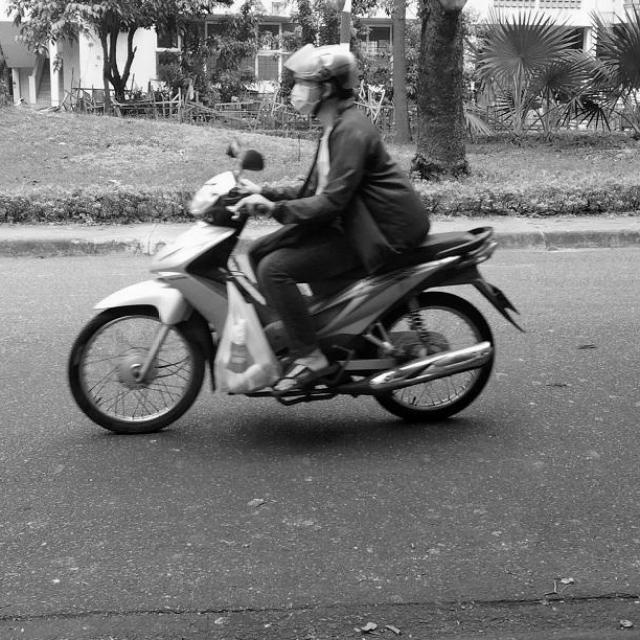Helmet: (286, 41, 358, 120)
